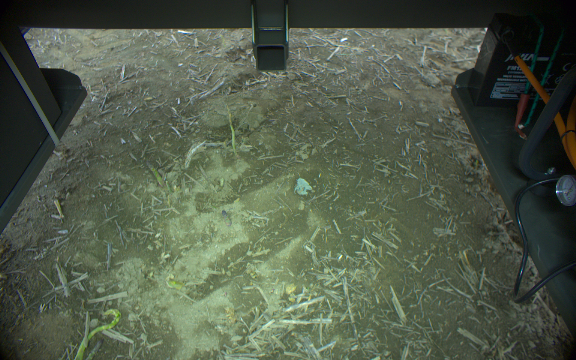aspa: (69, 307, 123, 360), (224, 103, 239, 156), (141, 158, 166, 189), (161, 275, 186, 296)
